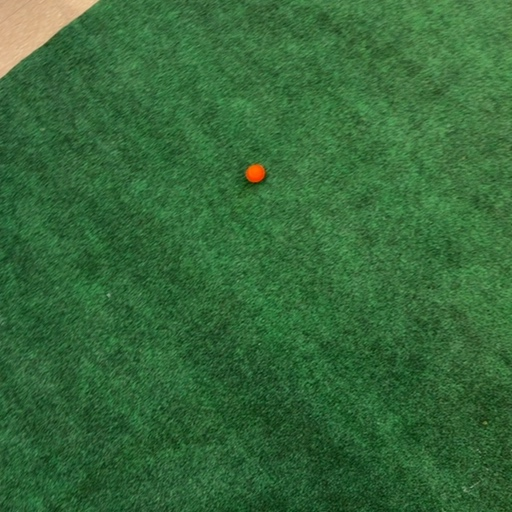Ball: (246, 165, 265, 182)
